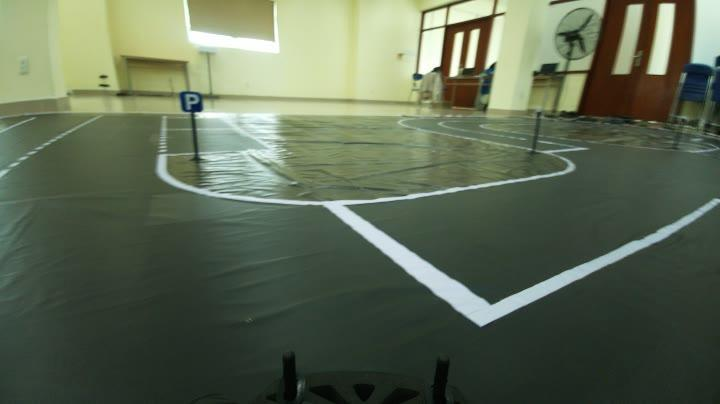parking: (171, 84, 208, 116)
